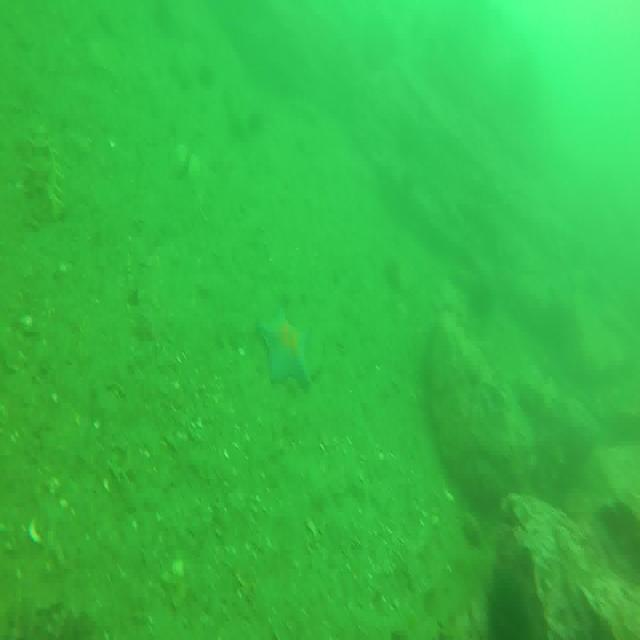holothurian: (19, 122, 63, 222)
starfish: (260, 308, 313, 384)
